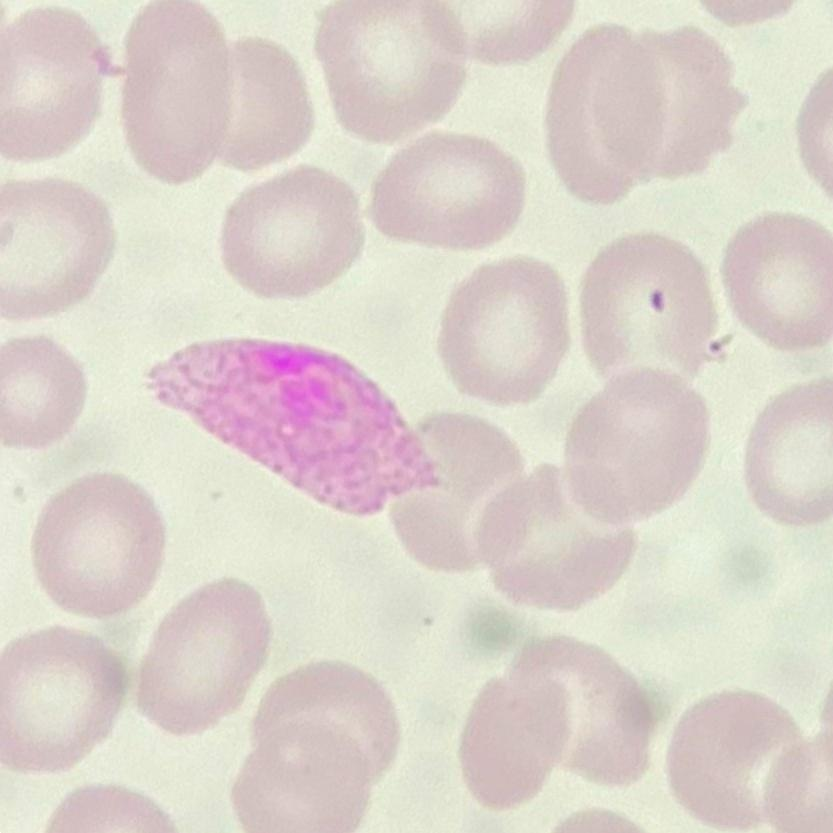Infected: (144, 331, 439, 523)
Uninfected: (549, 26, 739, 199), (233, 663, 395, 832), (512, 623, 651, 787), (563, 370, 708, 525), (478, 478, 639, 612), (317, 0, 467, 142), (383, 414, 519, 567), (138, 580, 271, 732), (576, 234, 716, 378), (122, 2, 232, 178), (437, 258, 570, 403), (30, 475, 164, 618), (372, 127, 521, 250), (221, 168, 360, 296), (665, 691, 795, 825), (0, 629, 123, 769), (461, 664, 567, 816), (3, 8, 108, 160), (3, 180, 114, 319), (722, 212, 833, 348), (217, 39, 312, 171)
